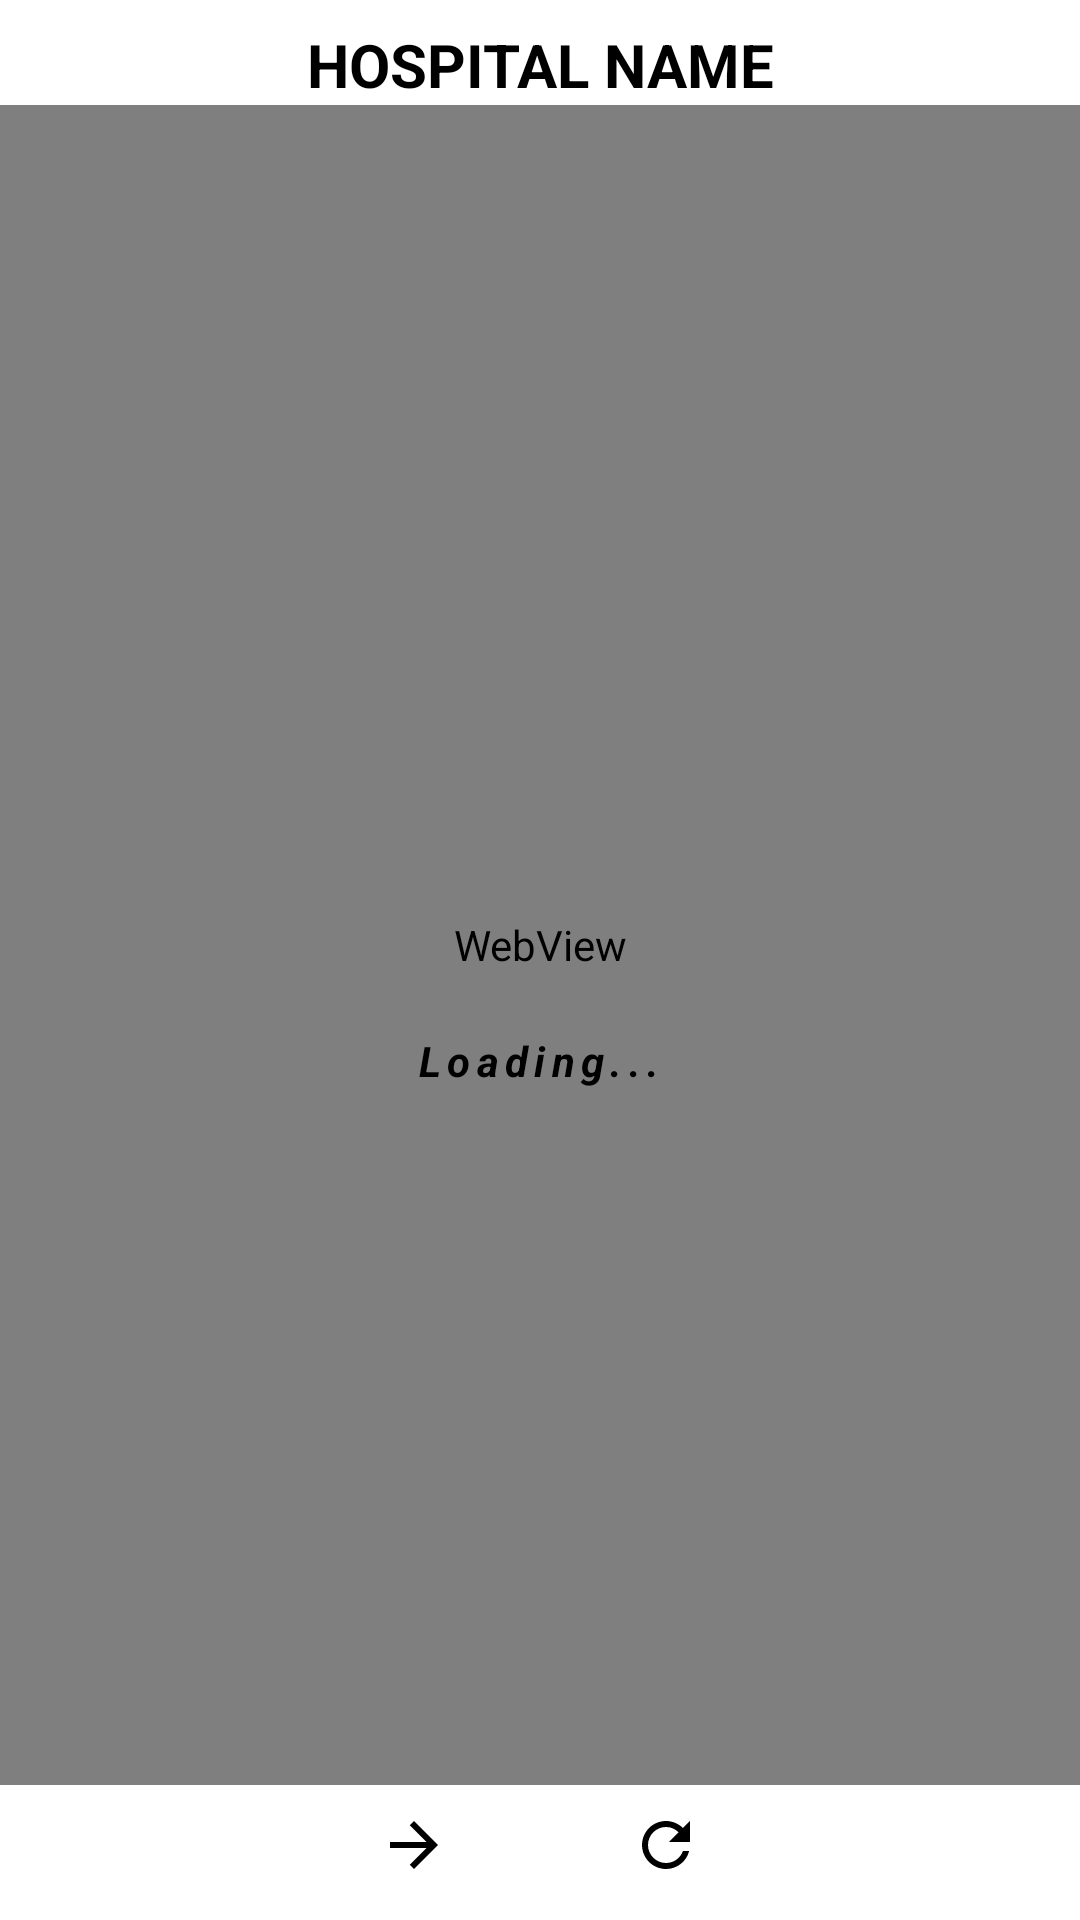

Icons on this 1080 x 1920 Android screen, each with its box as (x1, y1, x2, y2):
forward: (390, 1821, 438, 1869)
refresh: (642, 1821, 690, 1869)
